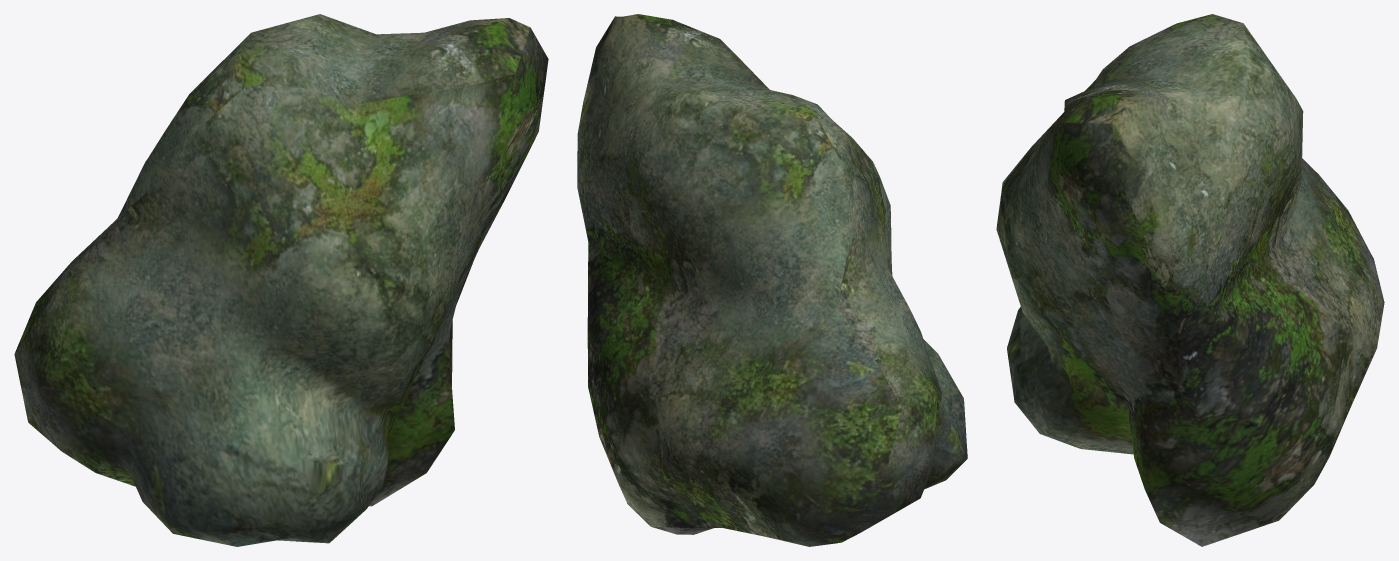
The model's file is stone_06.FBX.
The picture shows the model from 3 angles, left to right: view 1: azimuth 30°, elevation 25°; view 2: azimuth 150°, elevation 25°; view 3: azimuth 270°, elevation 25°; orthographic projection. The views are drawn at different scales.
Parts seen in each view (by area): view 1: stone_06_02; view 2: stone_06_02; view 3: stone_06_02.
Part boxes in pixels (x1,y1,x2,y2): stone_06_02: [14, 14, 548, 546]; stone_06_02: [577, 14, 967, 546]; stone_06_02: [996, 14, 1384, 546].
Size of the model in its own units: 2.13 by 2.29 by 1.65.
